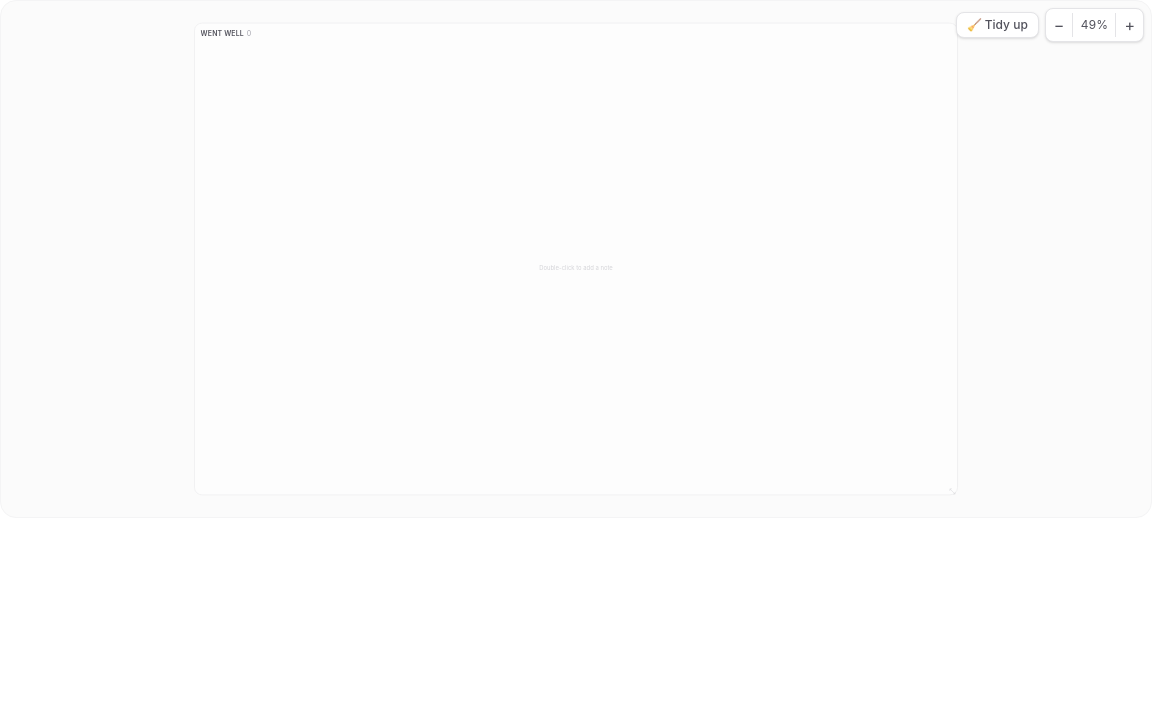
double-clicking empty canvas space opens a composer
Double-click the element showing "Double-click to add a note" at (576, 268), box [539, 264, 613, 271]
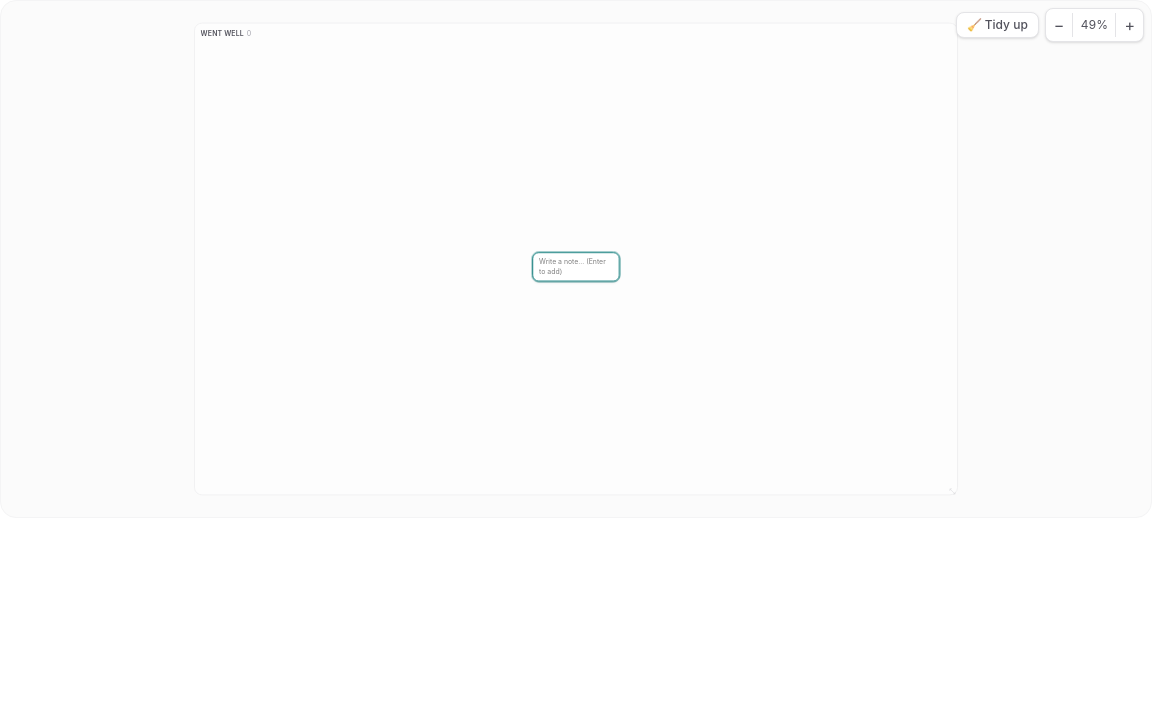
Expected: the text box with test id "canvas-composer" is shown, [533, 253, 619, 281]
